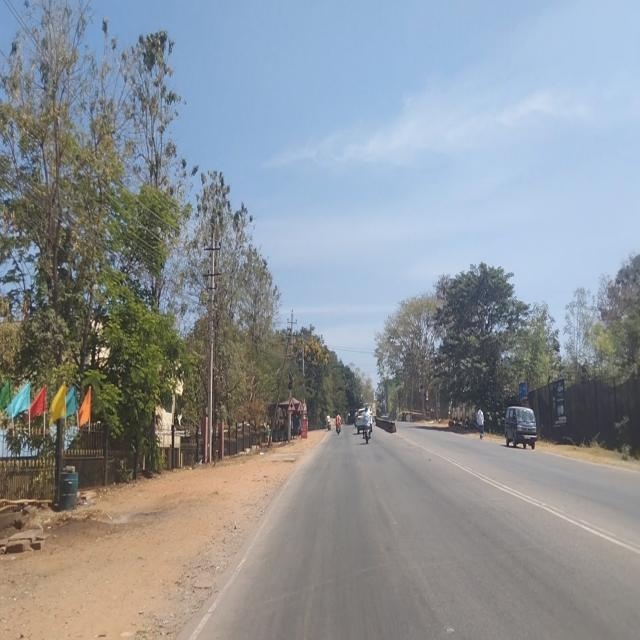bien_nguy_hiem: (288, 397, 296, 411)
